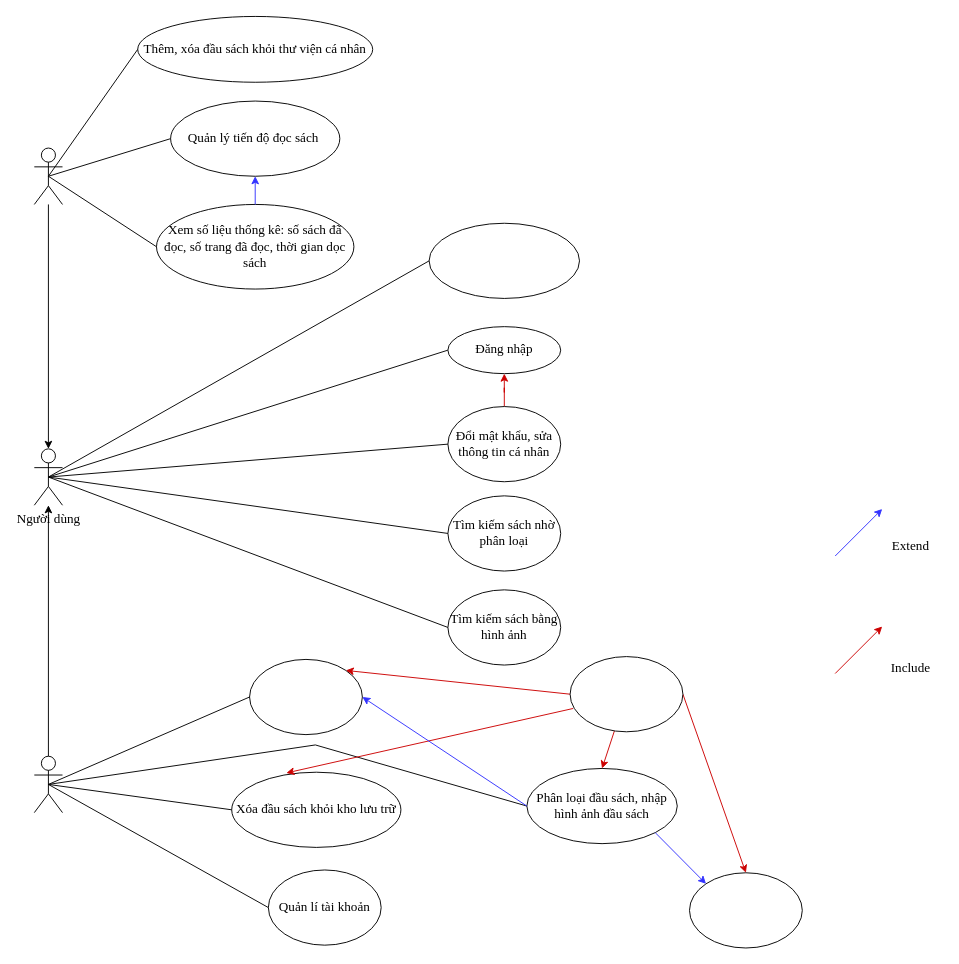
The diagram is 959 pixels wide and 964 high, and some of its shapes have lost their labels. Here are the shapes that lost their labels. From the top down, the box of each, then its label:
(33, 147, 63, 204): Độc giả
(428, 222, 580, 298): Đăng kí tài khoản
(249, 658, 362, 735): Thêm đầu sách mới
(569, 656, 683, 732): Cơ sở dữ liệu
(33, 755, 63, 813): Thủ thư
(689, 872, 802, 948): Sửa thông tin của đầu sách
